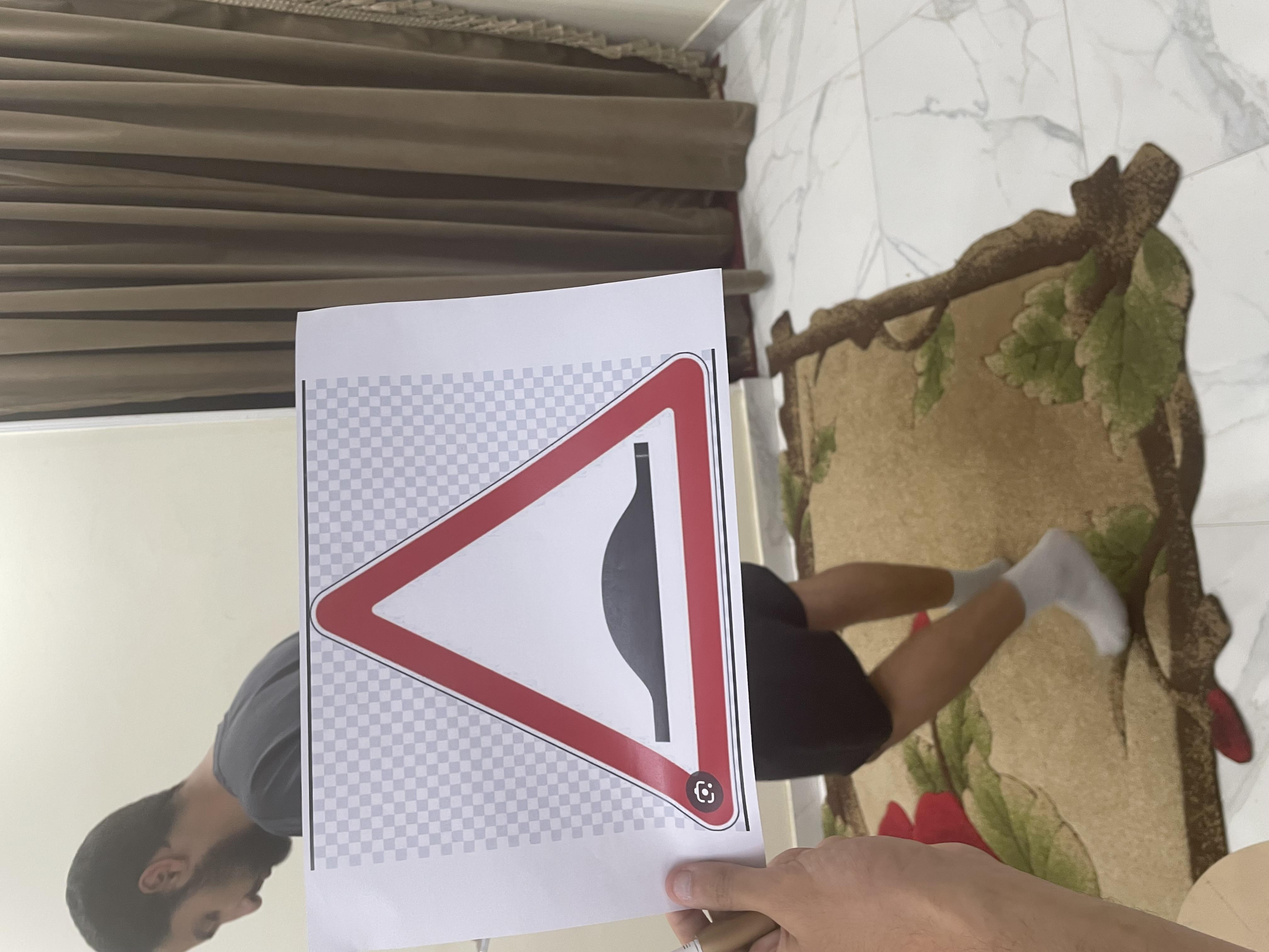Hump: (150, 234, 815, 560)
